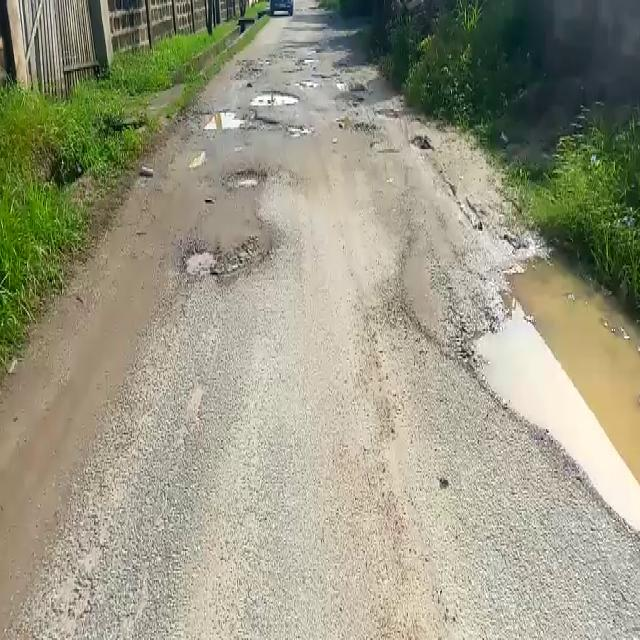Pothole: (462, 244, 639, 542), (181, 242, 260, 280), (186, 108, 245, 134), (223, 165, 268, 194), (248, 90, 302, 107)
